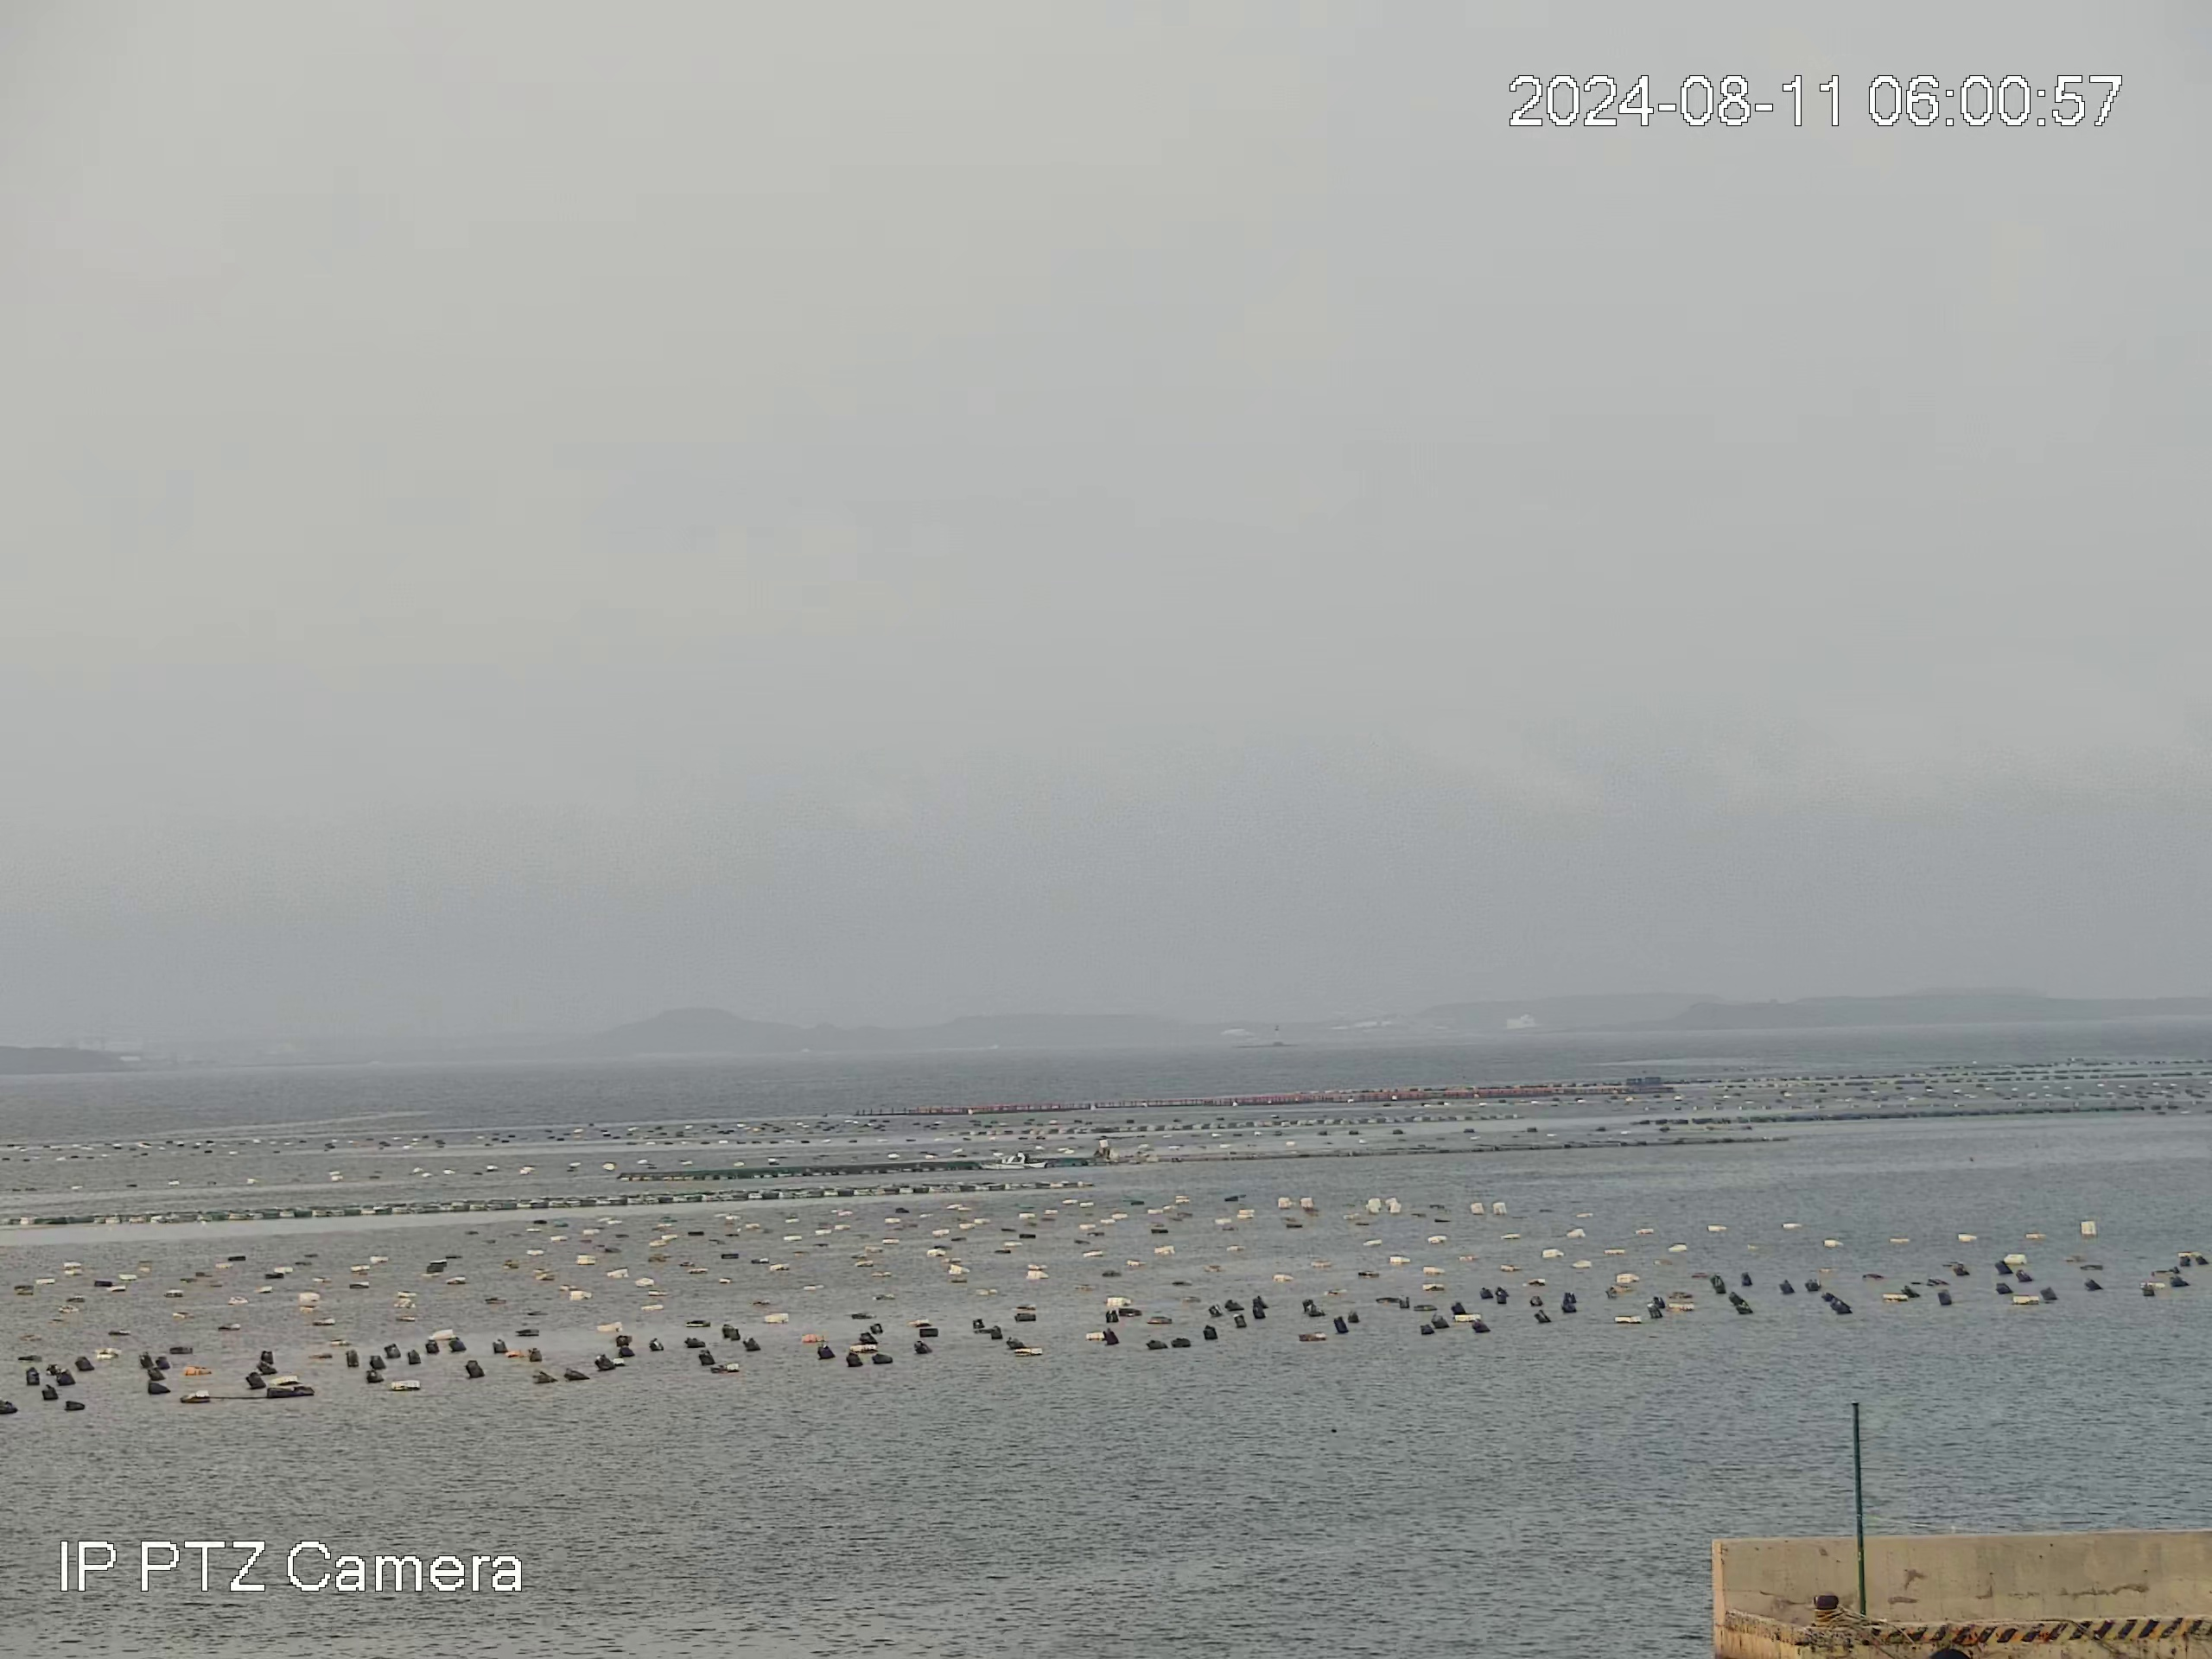boat: (977, 1148, 1059, 1171)
